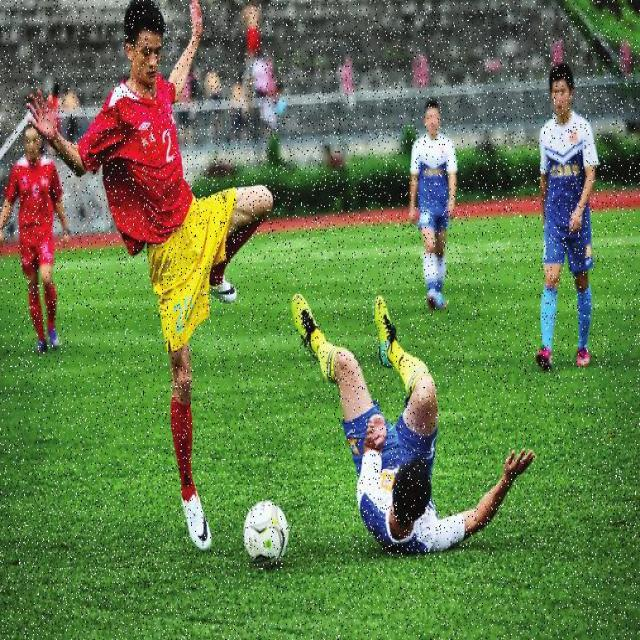fall: (307, 289, 452, 548)
